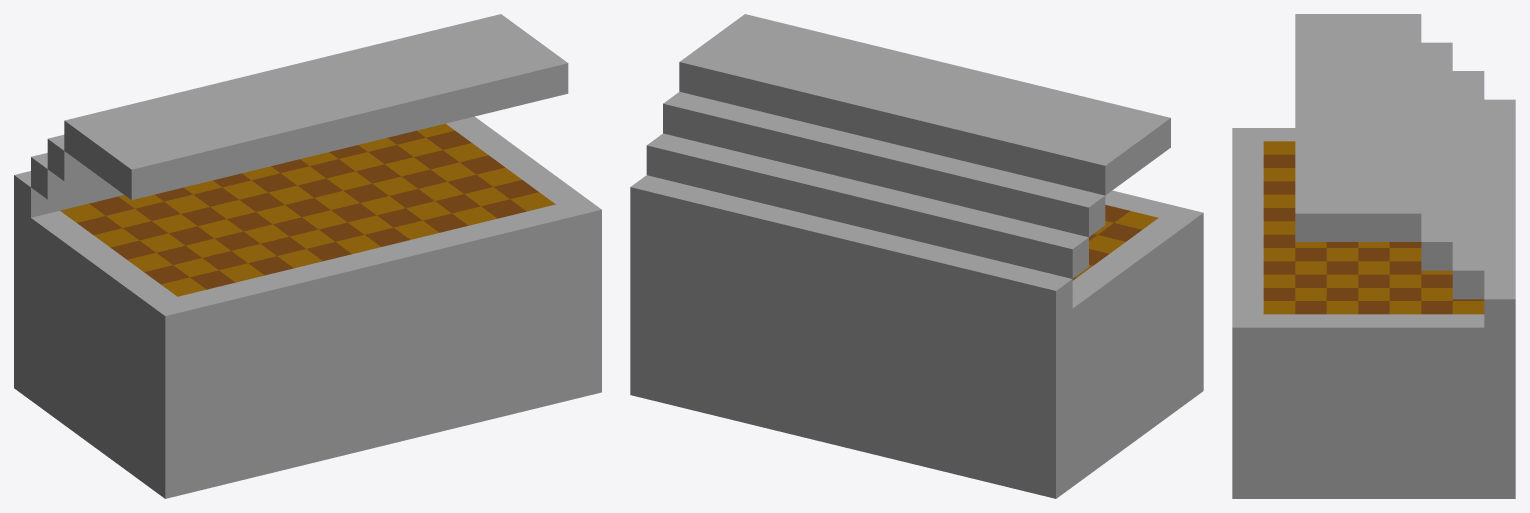
Rendered from PistolAmmo.obj.
The picture shows the model from 3 angles, left to right: view 1: azimuth 30°, elevation 25°; view 2: azimuth 150°, elevation 25°; view 3: azimuth 270°, elevation 25°; orthographic projection. The views are drawn at different scales.
Size of the model in its own units: 1.5 by 1 by 0.9.
Materials: 1 (1 with a texture image).
